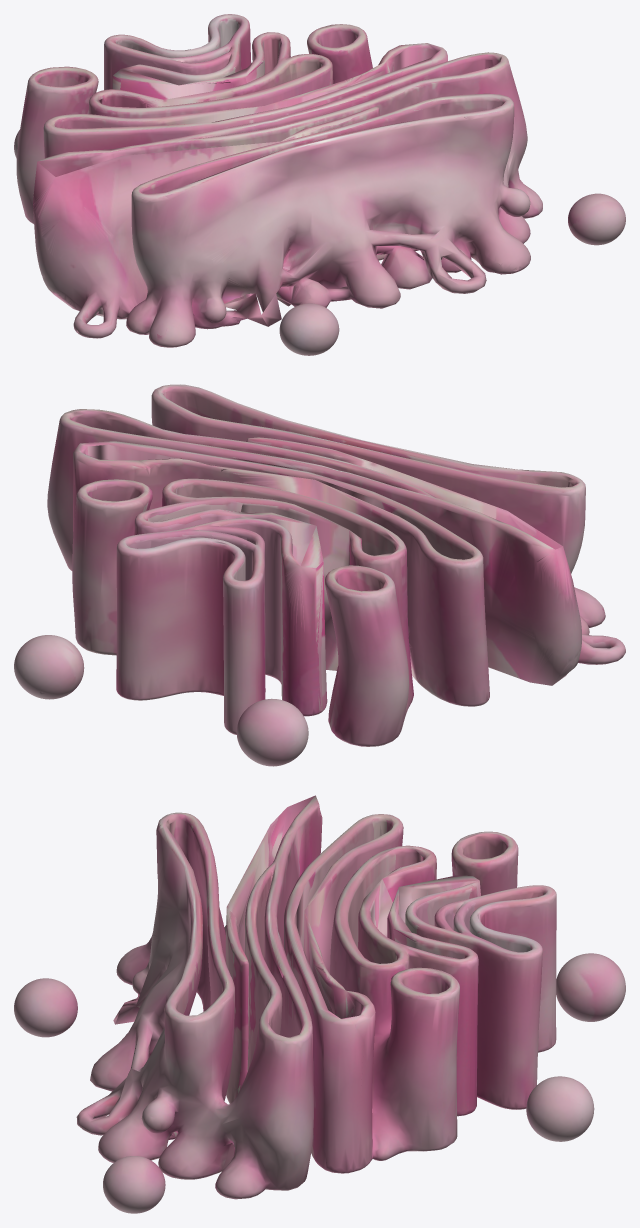
File: Golgi Aparatus Texture.glb
3 renders of one model, top to bottom at view 1: azimuth 30°, elevation 25°; view 2: azimuth 150°, elevation 25°; view 3: azimuth 270°, elevation 25°, orthographic. The views are drawn at different scales.
Visible parts, largest first — view 1: kaedim_mesh_1; view 2: kaedim_mesh_1; view 3: kaedim_mesh_1.
Part boxes in pixels (left/top/right/bottom): kaedim_mesh_1: left=14, top=14, right=625, bottom=355; kaedim_mesh_1: left=14, top=384, right=625, bottom=766; kaedim_mesh_1: left=14, top=795, right=625, bottom=1213.
Bounding box in the file's own units: 7.43 × 2 × 6.86.
Materials: 1 (1 with a texture image).
